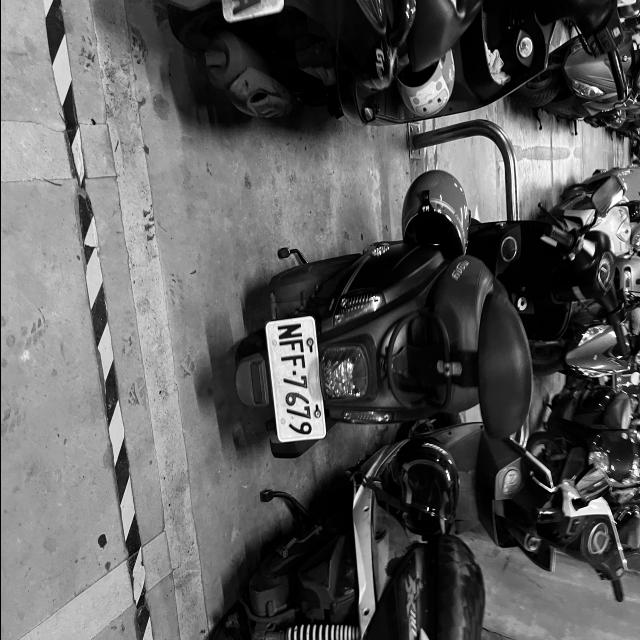-: (290, 368, 296, 376)
6: (284, 392, 309, 408)
7: (281, 374, 307, 389), (285, 405, 311, 420)
9: (287, 421, 312, 435)
F: (278, 338, 304, 354), (280, 353, 305, 369)
N: (277, 320, 302, 341)
plate: (266, 317, 324, 442)
